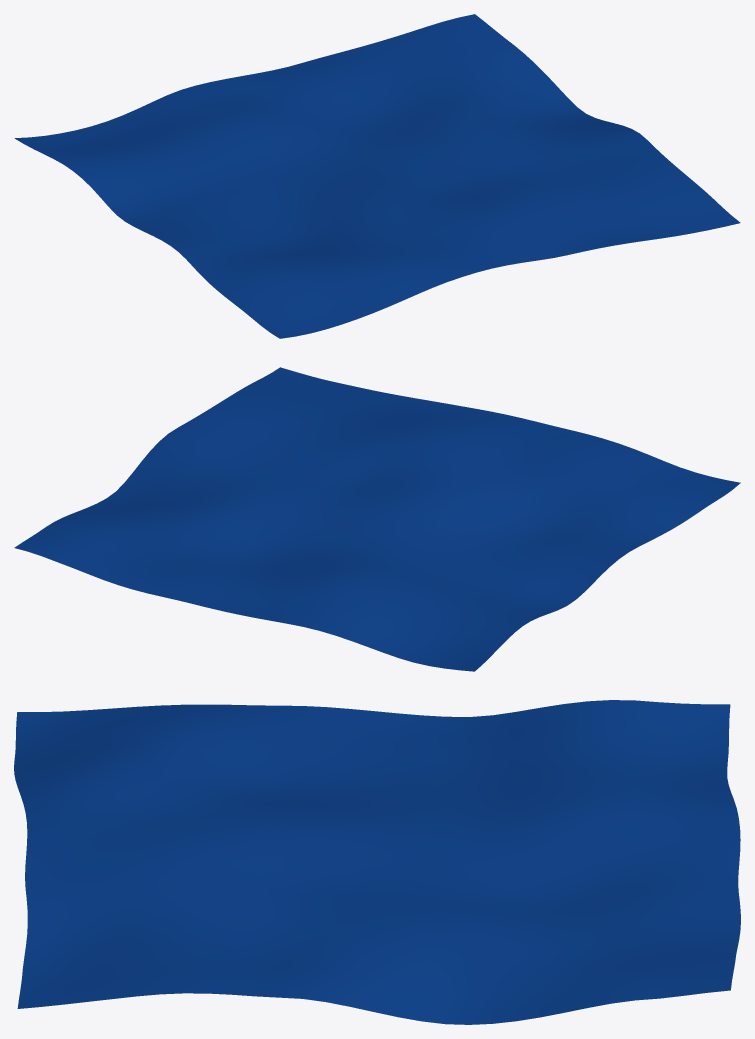
Rendered from wave_2.obj.
The picture shows the model from 3 angles, top to bottom: view 1: azimuth 30°, elevation 25°; view 2: azimuth 150°, elevation 25°; view 3: azimuth 270°, elevation 25°; orthographic projection. The views are drawn at different scales.
Parts seen in each view (by area): view 1: Plane001; view 2: Plane001; view 3: Plane001.
Part boxes in pixels (x1,y1,x2,y2): Plane001: [14, 14, 740, 338]; Plane001: [14, 367, 740, 671]; Plane001: [14, 700, 740, 1024].
Bounding box in the file's own units: 401 × 19.8 × 401.
